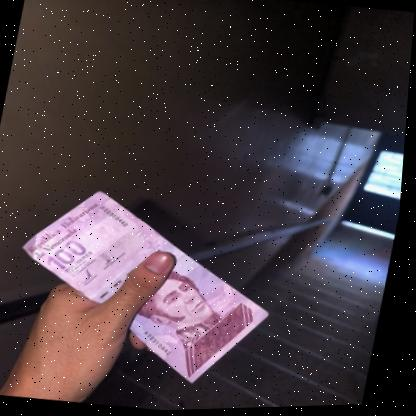one_hundred-front-vef: (1, 176, 295, 398)
